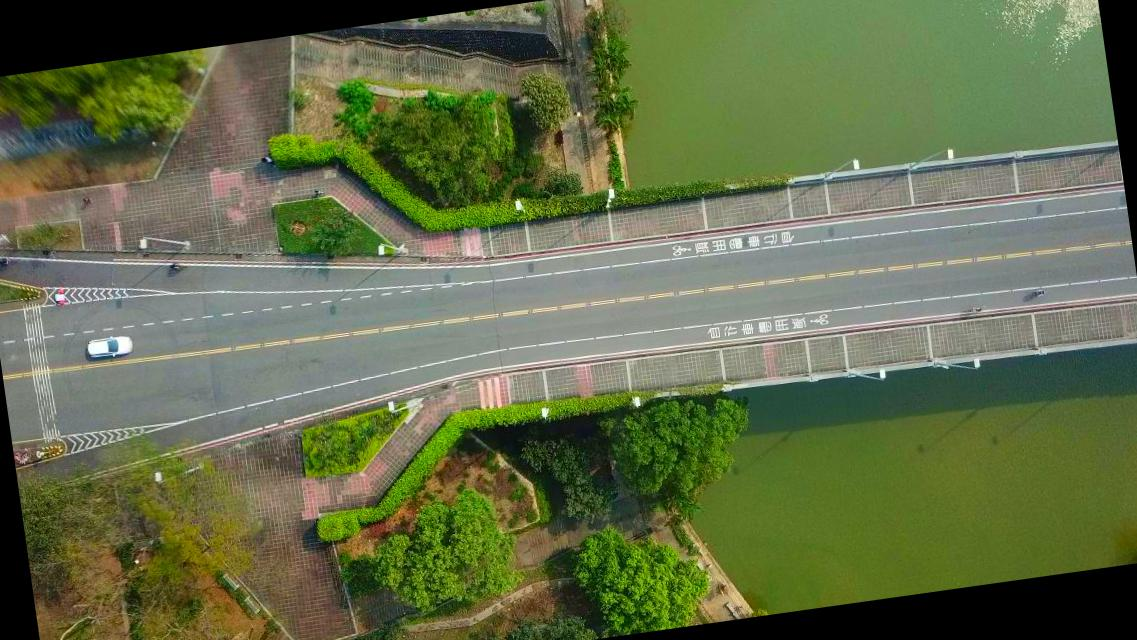vehicle: (86, 334, 134, 361)
